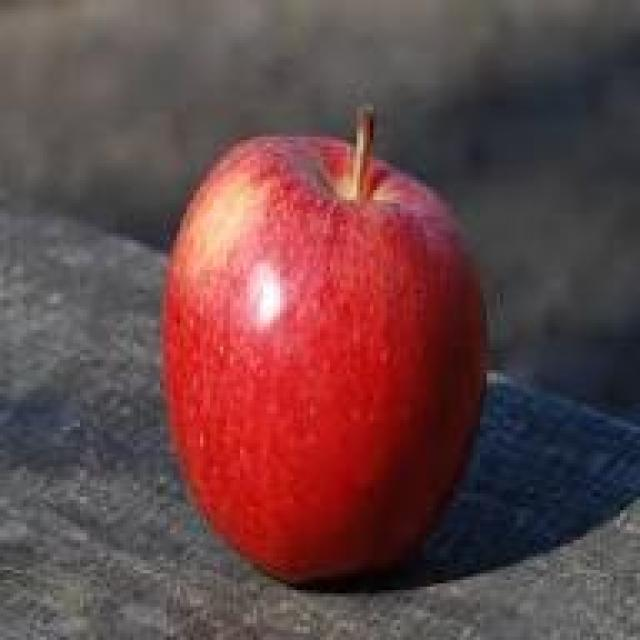apple: (166, 130, 486, 590)
